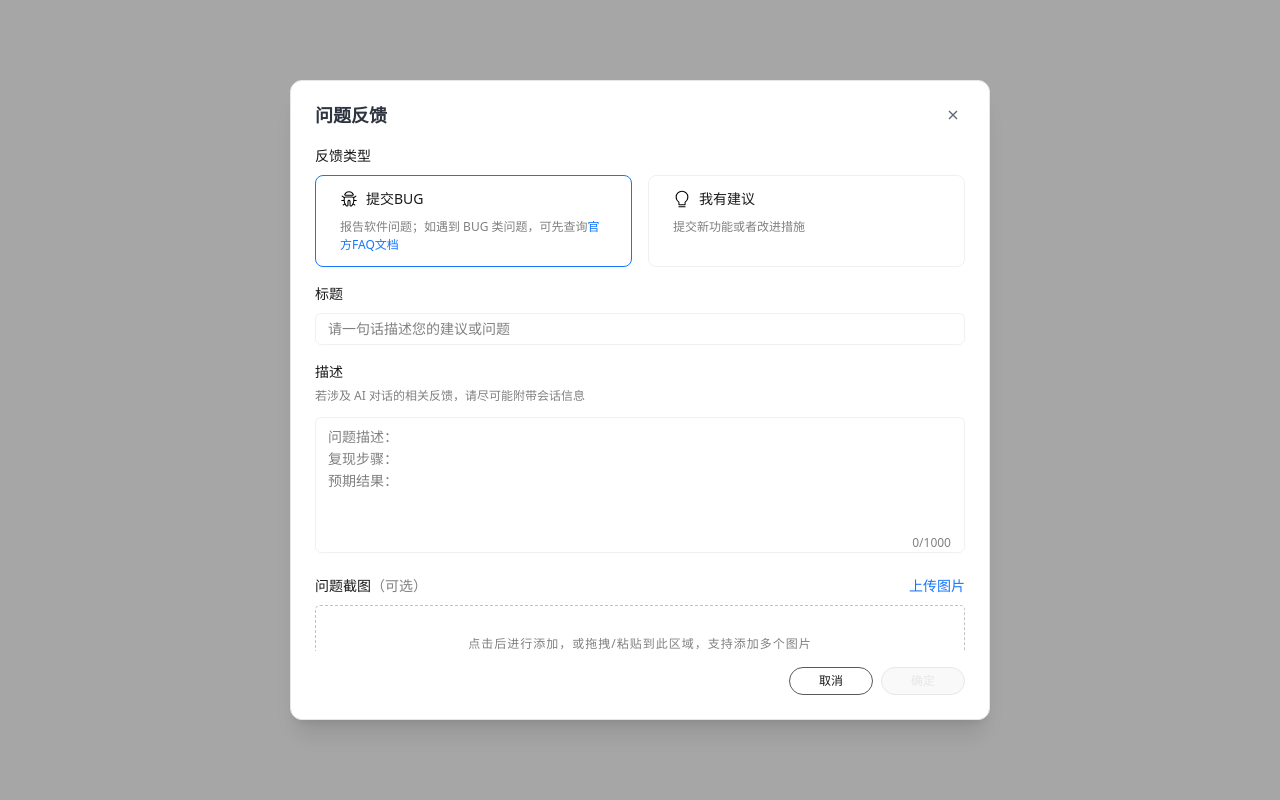
Test: FeedbackModal › hides auxiliary info for suggestions but keeps the agreement visible
Click the button with test id "feedback-type-suggestion".
click(806, 221)  # box [648,175,965,267]
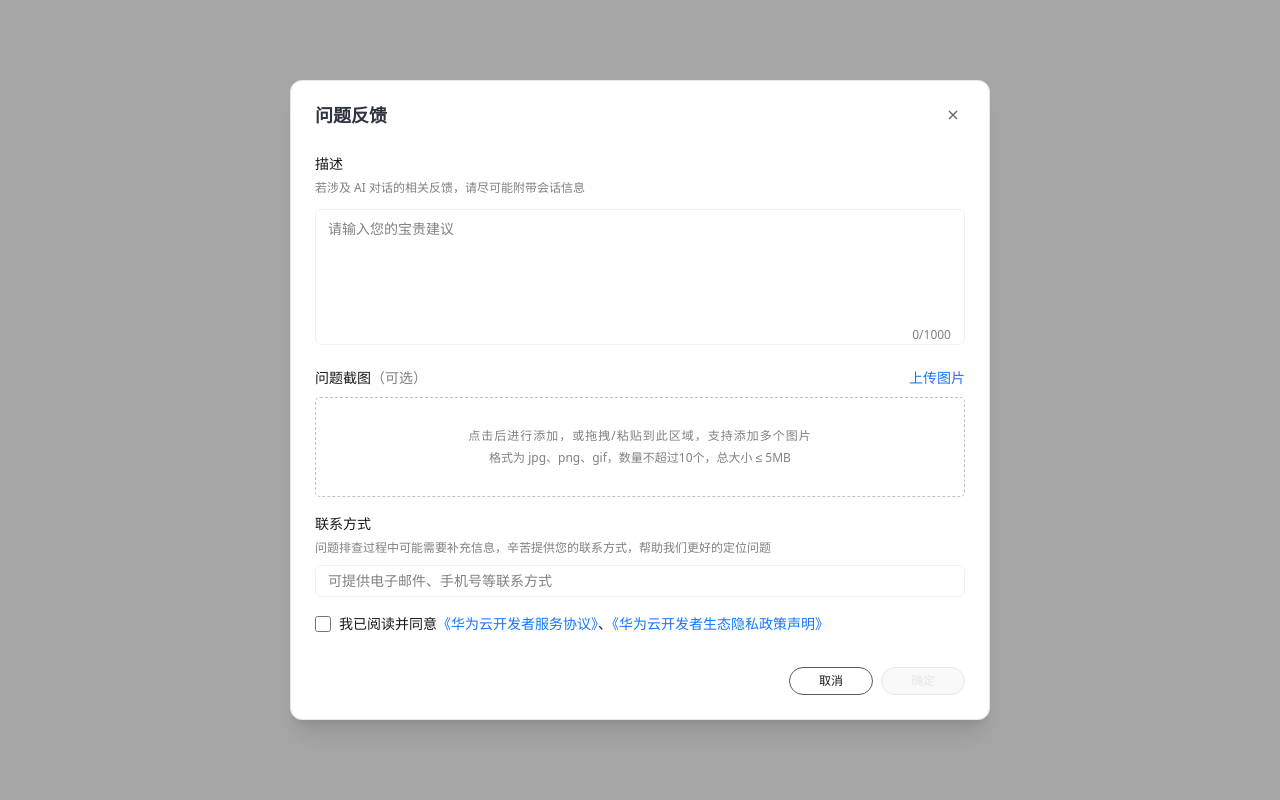
Now the field with test id "feedback-contact" is shown, box [315,565,965,597]
Now the element with test id "feedback-agreement-options" is shown, box [315,614,829,633]
Now the checkbox with test id "feedback-agreement" is shown, box [315,616,331,632]
